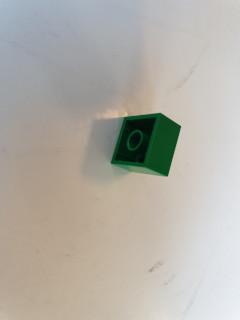2x2 green: (106, 111, 184, 183)
